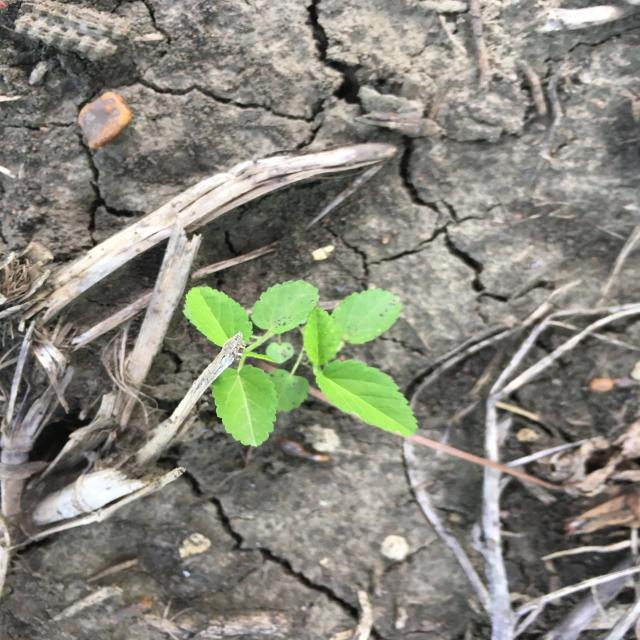PricklySida: (180, 278, 421, 448)
